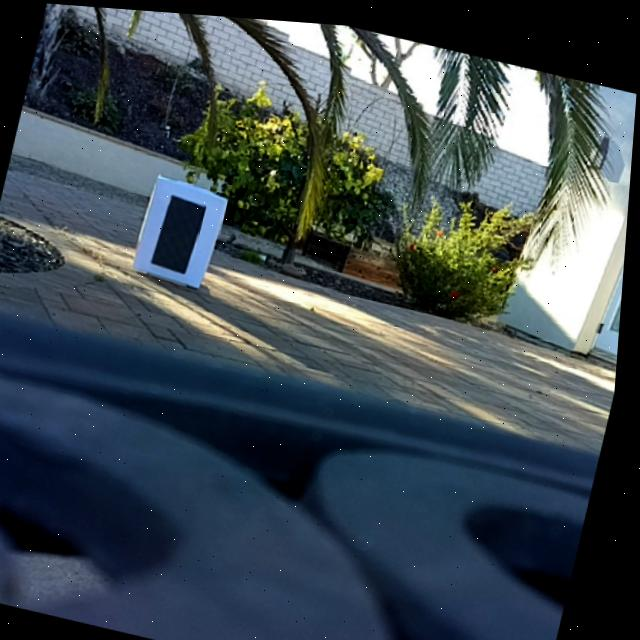led: (152, 189, 213, 273)
